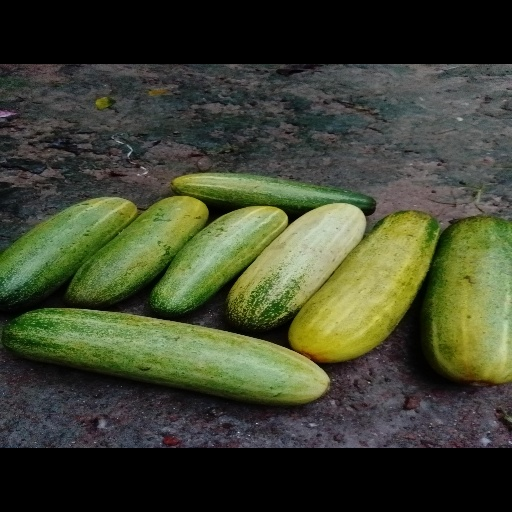concombre: (2, 308, 331, 408), (286, 210, 441, 365), (225, 202, 368, 334), (61, 196, 210, 310), (1, 196, 139, 318), (143, 206, 289, 319), (418, 214, 511, 390), (170, 172, 377, 217)
